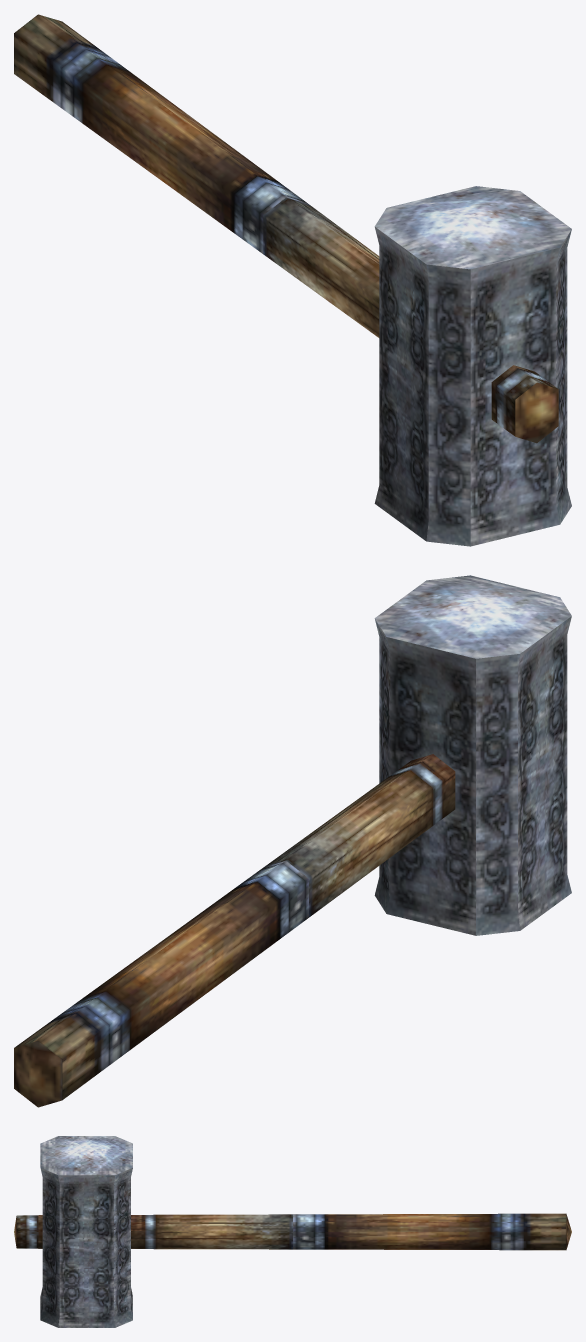
Rendered from waj13.glb.
3 renders of one model, top to bottom at view 1: azimuth 30°, elevation 25°; view 2: azimuth 150°, elevation 25°; view 3: azimuth 270°, elevation 25°, orthographic. The views are drawn at different scales.
Visible parts, largest first — view 1: waj13-col; view 2: waj13-col; view 3: waj13-col.
Boxes of the visible parts, left/top/right/bottom form: waj13-col: left=14, top=14, right=571, bottom=546; waj13-col: left=14, top=575, right=571, bottom=1107; waj13-col: left=14, top=1136, right=571, bottom=1327.
Size of the model in its own units: 0.1435 by 0.28 by 0.8644.
Materials: 1 (1 with a texture image).
